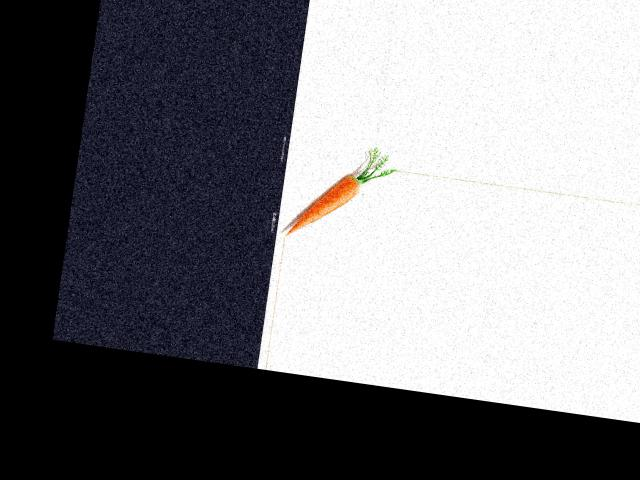carrot: (283, 157, 382, 247)
